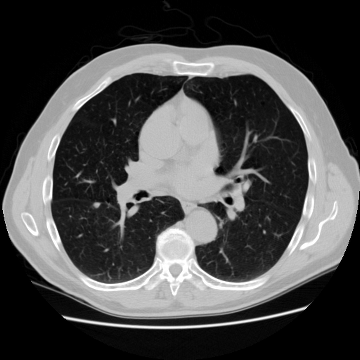nodule: (92, 201, 100, 209)
